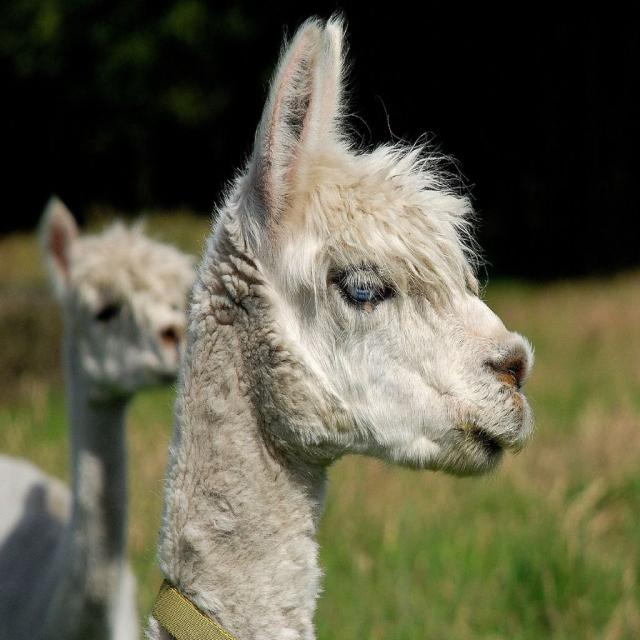alpaca: (147, 13, 534, 640), (1, 192, 197, 640)
